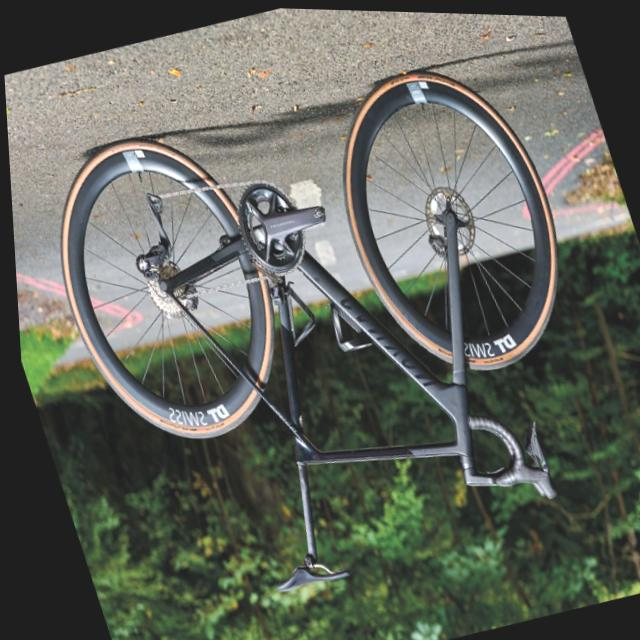road-bike: (15, 34, 640, 630)
